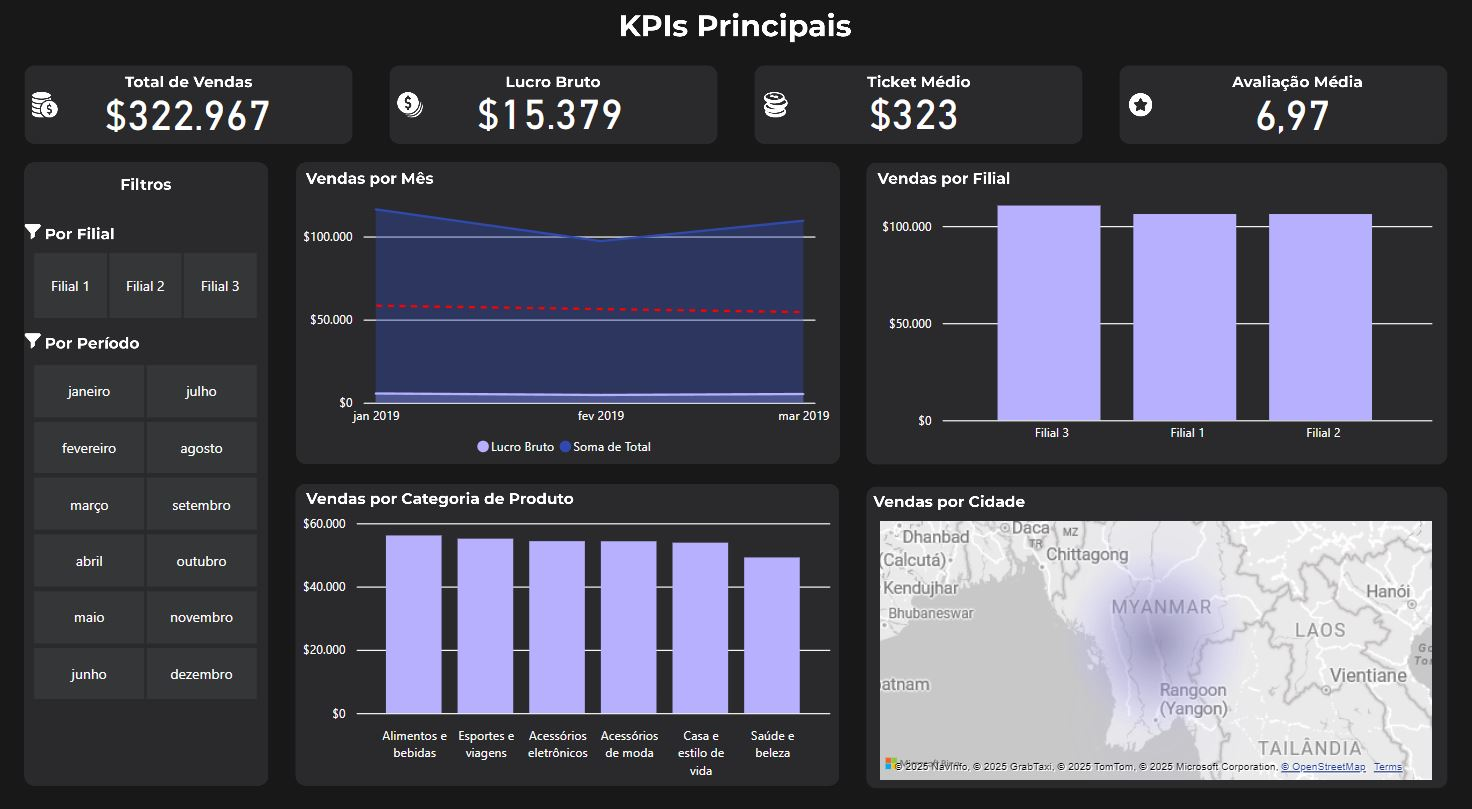

This screenshot's page, from the dashboard's own definition file:
{"tool":"powerbi","page":{"name":"Página 1: KPIs Principais","canvas":[1280,720],"ordinal":0},"visuals":[{"type":"image","box":[0,5.5,1280.2,708.8],"z":0},{"type":"card","fields":{"Values":["dataset-IAN-Store.Total de Vendas"]},"box":[65.9,78,203.3,57.1],"z":1000},{"type":"card","fields":{"Values":["dataset-IAN-Store.Lucro Bruto"]},"box":[359.3,73.6,239.6,64.8],"z":2000},{"type":"card","fields":{"Values":["dataset-IAN-Store.Ticket Médio"]},"box":[670.3,73.6,247.3,64.8],"z":3000},{"type":"card","fields":{"Values":["dataset-IAN-Store.Avaliação Média"]},"box":[1072.5,78,95.6,57.1],"z":4000},{"type":"slicer","fields":{"Values":["dataset-IAN-Store.Branch"]},"box":[8.8,222,241.8,70.3],"z":5000},{"type":"slicer","fields":{"Values":["dataset-IAN-Store.Date.Variation.Hierarquia de datas.Mês"]},"box":[8.8,318.7,241.8,302.2],"z":6000},{"type":"areaChart","title":"Vendas por Mês","fields":{"Category":["dataset-IAN-Store.Date.Variation.Hierarquia de datas.Ano","dataset-IAN-Store.Date.Variation.Hierarquia de datas.Mês"],"Y":["dataset-IAN-Store.Lucro Bruto","Sum(dataset-IAN-Store.Total)"]},"box":[261.5,171.4,464.8,241.8],"z":7000},{"type":"columnChart","title":"Vendas por Categoria de Produto","fields":{"Category":["dataset-IAN-Store.Product line"],"Y":["Sum(dataset-IAN-Store.Total)"]},"box":[261.5,447.3,464.8,241.8],"z":8000},{"type":"columnChart","title":"Vendas por Filial","fields":{"Y":["dataset-IAN-Store.Total de Vendas"],"Category":["dataset-IAN-Store.Branch"]},"box":[760.4,158.2,484.6,244],"z":9000},{"type":"map","title":"Vendas por Cidade","fields":{"Category":["dataset-IAN-Store.City"],"Size":["Sum(dataset-IAN-Store.Total)"]},"box":[759.3,454.9,485.7,234.1],"z":10000}]}

Visuals, with their boxes in screenshot pixels (x1, y1, x2, y2), scaled from the page's 1280x720 canvas onto the 1472x809 screenshot:
image: BBox(0, 6, 1471, 803)
card - dataset-IAN-Store.Total de Vendas: BBox(76, 88, 310, 152)
card - dataset-IAN-Store.Lucro Bruto: BBox(413, 83, 689, 156)
card - dataset-IAN-Store.Ticket Médio: BBox(771, 83, 1055, 156)
card - dataset-IAN-Store.Avaliação Média: BBox(1233, 88, 1343, 152)
slicer - dataset-IAN-Store.Branch: BBox(10, 249, 288, 328)
slicer - dataset-IAN-Store.Date.Variation.Hierarquia de datas.Mês: BBox(10, 358, 288, 698)
"Vendas por Mês" areaChart: BBox(301, 193, 835, 464)
"Vendas por Categoria de Produto" columnChart: BBox(301, 503, 835, 774)
"Vendas por Filial" columnChart: BBox(874, 178, 1432, 452)
"Vendas por Cidade" map: BBox(873, 511, 1432, 774)
